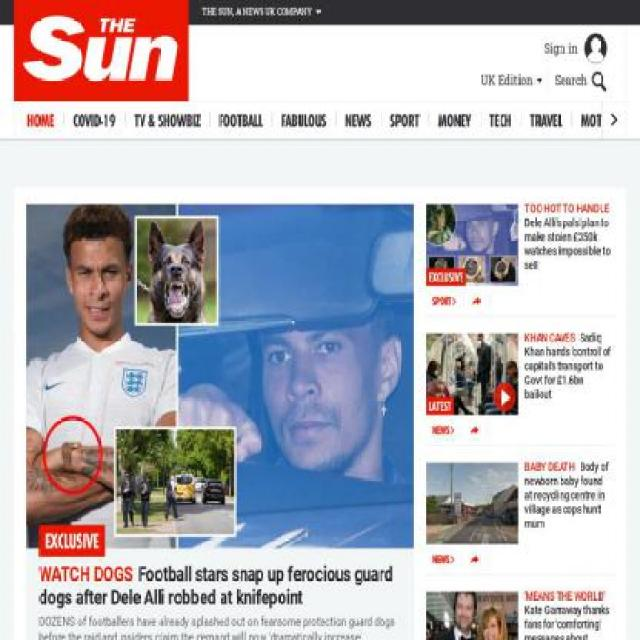button: (26, 204, 414, 548), (39, 562, 402, 640), (20, 0, 195, 102), (427, 333, 518, 415), (427, 462, 518, 544), (427, 204, 518, 285), (525, 331, 612, 402), (525, 460, 612, 531), (525, 202, 612, 272), (524, 588, 613, 640), (426, 592, 519, 639), (134, 100, 200, 138), (544, 33, 607, 64), (219, 100, 263, 138), (282, 100, 326, 138), (73, 100, 116, 138), (581, 100, 619, 138), (438, 100, 471, 138), (530, 100, 562, 138), (390, 100, 419, 138), (27, 100, 55, 138), (480, 72, 542, 88), (346, 100, 372, 138), (548, 72, 607, 88), (489, 100, 511, 138), (432, 294, 451, 308), (432, 423, 450, 437), (432, 552, 450, 566), (638, 99, 639, 139)
